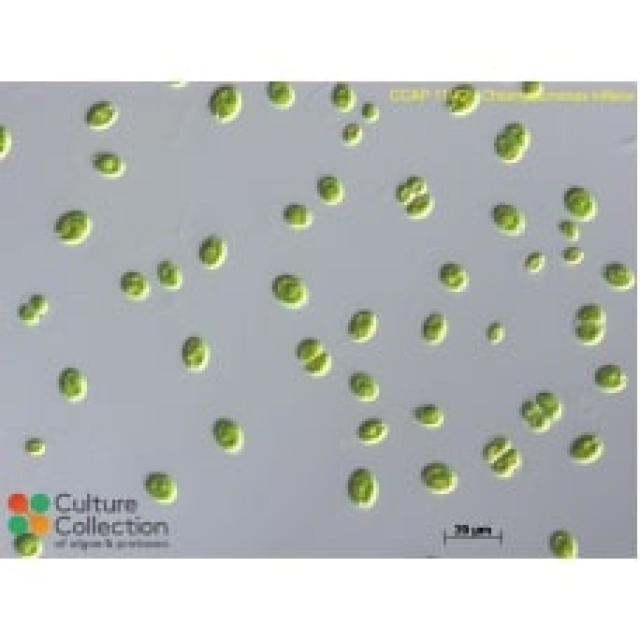Green Algae: (50, 205, 96, 247), (205, 407, 244, 455), (202, 84, 244, 124), (345, 463, 379, 511), (416, 458, 460, 494), (564, 427, 604, 466), (56, 362, 90, 407), (140, 463, 177, 500), (93, 143, 126, 183), (564, 185, 598, 222), (494, 199, 528, 236), (177, 328, 208, 368), (112, 264, 149, 297), (547, 525, 584, 556), (438, 261, 471, 295), (264, 79, 295, 115), (592, 362, 629, 390), (200, 233, 228, 269), (421, 309, 446, 348), (84, 101, 118, 129), (328, 81, 356, 115), (604, 261, 637, 289), (354, 416, 387, 444), (314, 174, 346, 202), (154, 258, 182, 289), (494, 129, 519, 163), (346, 312, 374, 342), (348, 371, 379, 398), (570, 320, 603, 345), (280, 202, 312, 227), (502, 115, 530, 143), (494, 449, 522, 477), (272, 269, 300, 295), (415, 402, 441, 429), (404, 194, 432, 219), (483, 435, 508, 463), (14, 533, 39, 559), (539, 390, 561, 418), (295, 340, 323, 362), (306, 354, 334, 376), (578, 303, 606, 323), (25, 435, 48, 458), (340, 121, 362, 143), (525, 250, 544, 275), (486, 320, 505, 342), (407, 171, 427, 191), (28, 292, 48, 312), (19, 300, 36, 323), (564, 244, 584, 261), (359, 104, 376, 121), (393, 180, 407, 193)
